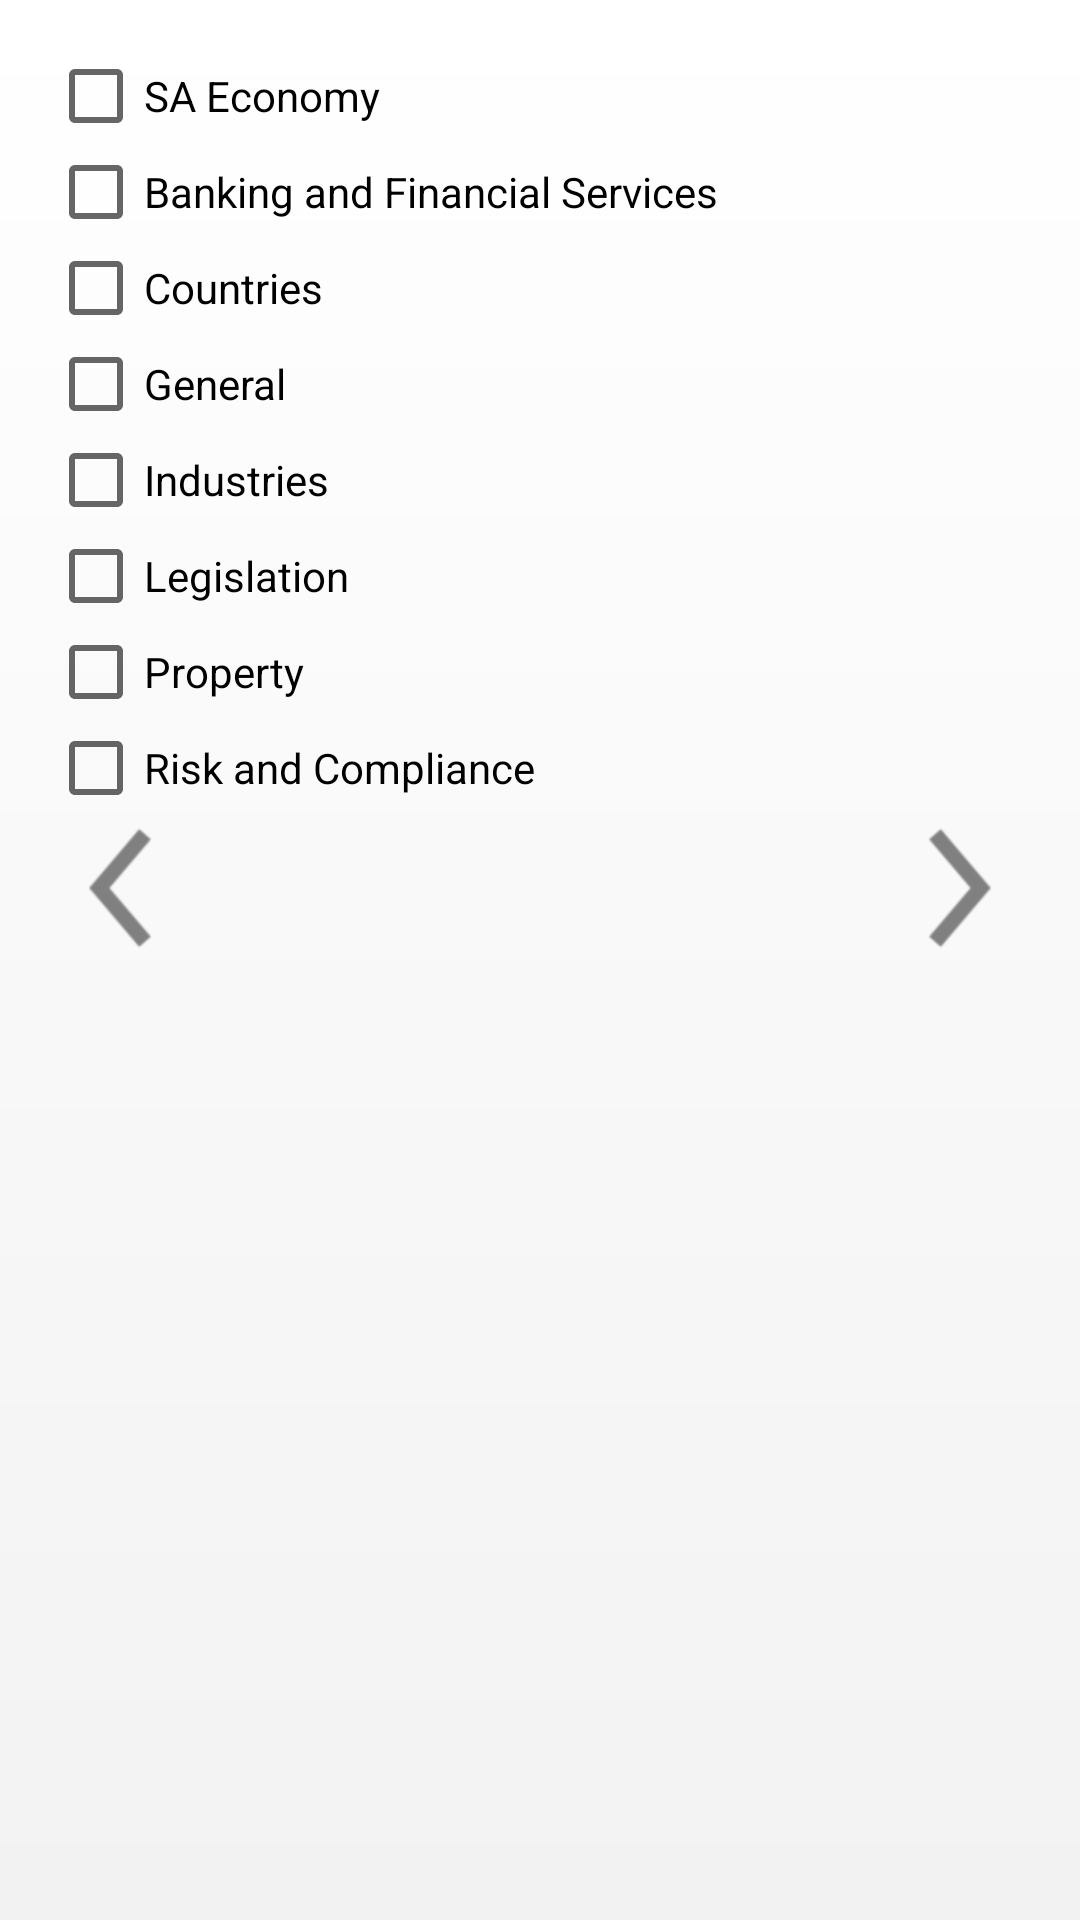

Locate icon controls on the screen. Image size 1080w x 1920h, boxes as (x1, y1, x2, y2).
next: (929, 829, 991, 947)
prev: (89, 829, 151, 947)
